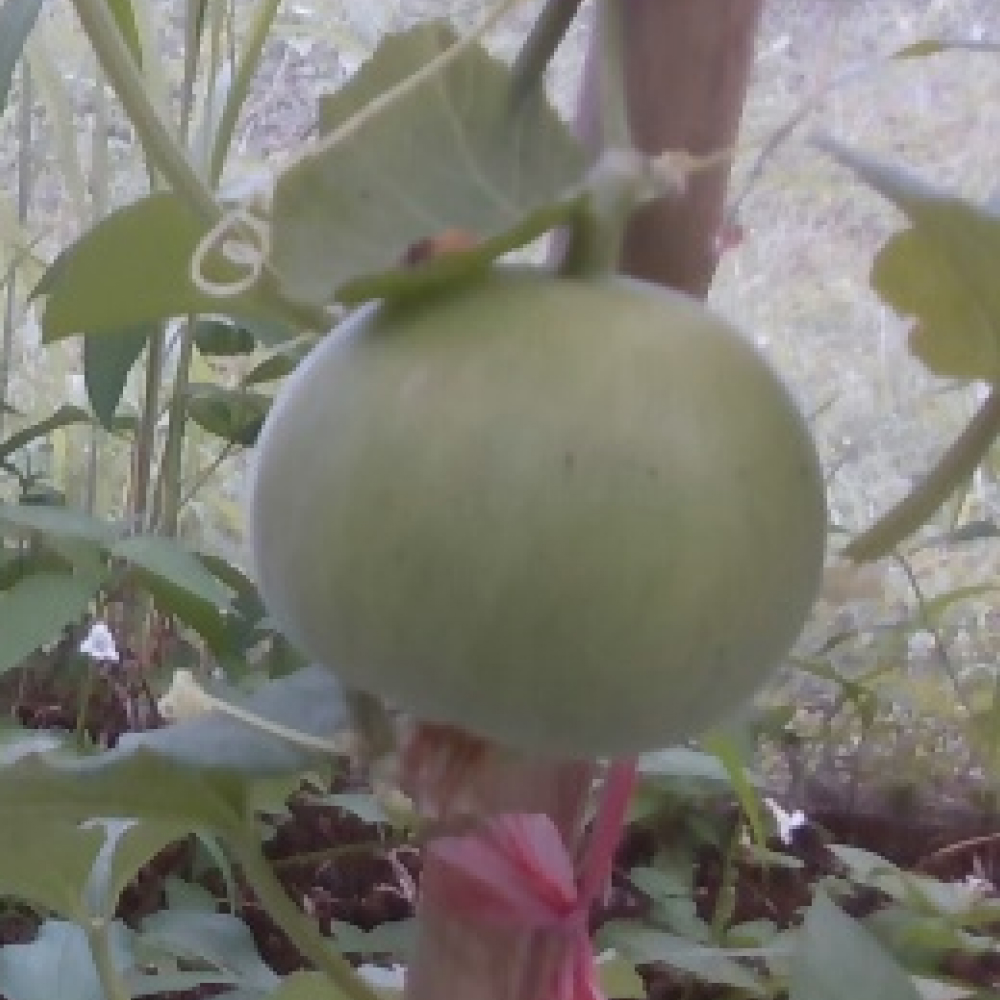melon: (244, 262, 832, 769)
